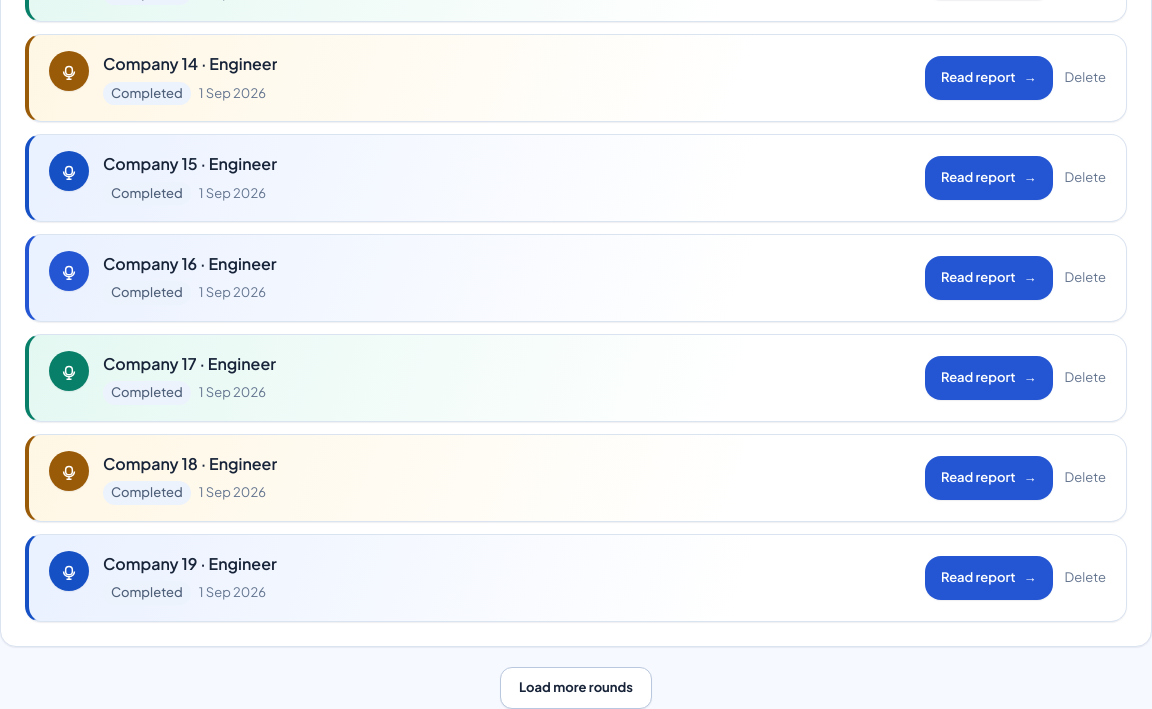
Test: DashboardPanel account isolation › loads another bounded page on the history screen
(page scrolled)
Click the button "Load more rounds": (576, 688) [500, 667, 652, 708]
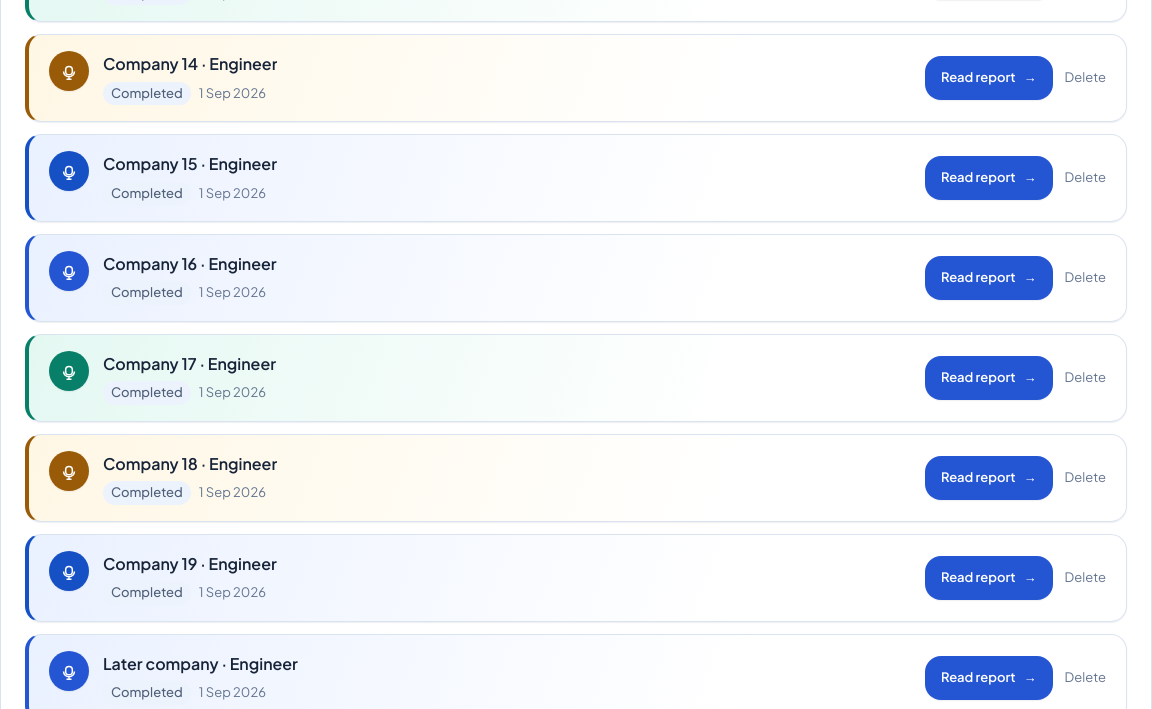
Result: the text "Later company · Engineer" is shown at [103, 651, 298, 677]
Result: the button "Load more rounds" is gone
